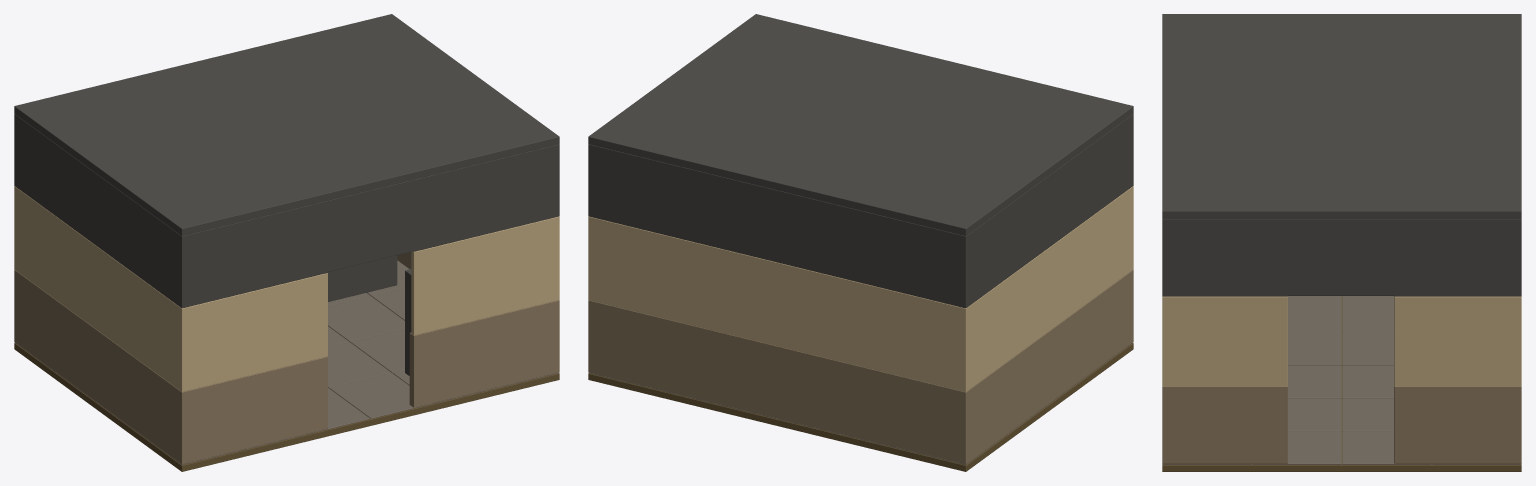
File: gen-pumps.glb
The picture shows the model from 3 angles, left to right: view 1: azimuth 30°, elevation 25°; view 2: azimuth 150°, elevation 25°; view 3: azimuth 270°, elevation 25°; orthographic projection. The views are drawn at different scales.
Visible parts, largest first — view 1: THE PUMPS; view 2: THE PUMPS; view 3: THE PUMPS.
Part boxes in pixels (x1=…): THE PUMPS: x1=14, y1=14, x2=559, y2=471; THE PUMPS: x1=588, y1=14, x2=1133, y2=471; THE PUMPS: x1=1162, y1=14, x2=1521, y2=471.
Size of the model in its own units: 5.2 by 3.2 by 4.
